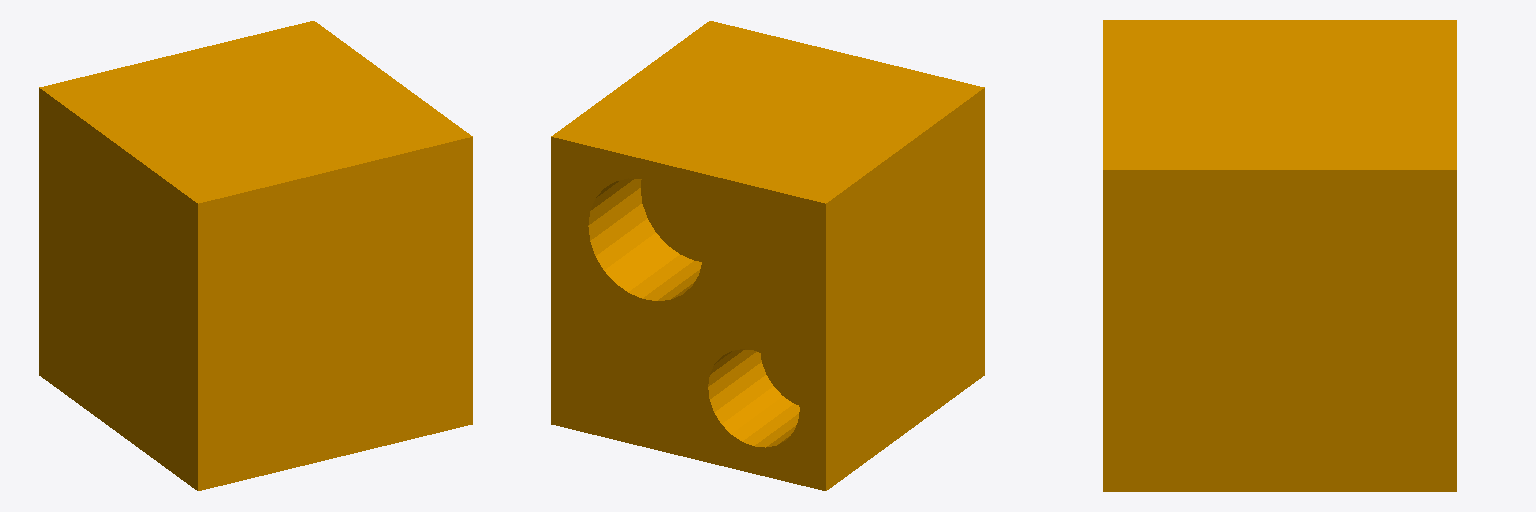
The robot description file, URDF, robot "slider-block":
<robot name="slider-block">
  <link name="block">
    <inertial>
      <origin xyz="0.0 0.0 0.0" rpy="0 0 0"/>
      <mass value="0.77"/>
      <inertia ixx="1" ixy="0.0" ixz="0.0" iyy="1" iyz="0.0" izz="1" />
    </inertial>

    <visual>
      <geometry>
        <mesh filename="SliderBlockv3.obj" scale="0.001 0.001 0.001" />
      </geometry>
     </visual>

    <collision>
      <geometry>
        <mesh filename="SliderBlockv3.obj" scale="0.001 0.001 0.001" />
      </geometry>
    </collision>

  </link>
</robot>

--- Render facts (derived) ---
The picture shows the robot from 3 angles, left to right: view 1: azimuth 30°, elevation 25°; view 2: azimuth 150°, elevation 25°; view 3: azimuth 270°, elevation 25°; orthographic projection.
Robot: slider-block — 1 links, 0 joints (none); root link block; default pose: every joint at zero.
Visible links, largest first — view 1: block; view 2: block; view 3: block.
Boxes of the visible links, x1,y1,x2,y2 form: block: (39,21,472,490); block: (551,21,984,490); block: (1103,20,1456,491).
Size in the robot's own frame: 0.0762 by 0.0762 by 0.0762 metres.
1 mesh visuals loaded from 1 distinct referenced files (1 OBJ).
